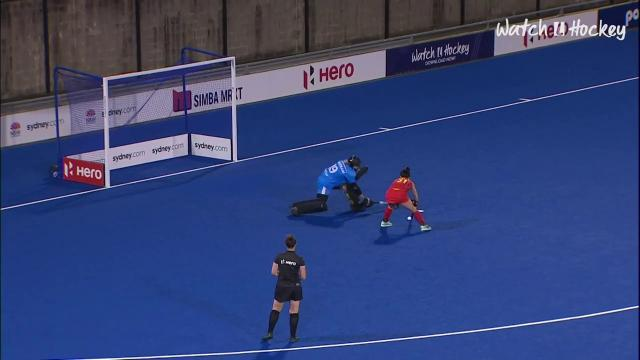ball: (406, 215, 413, 221), (402, 212, 406, 214)
